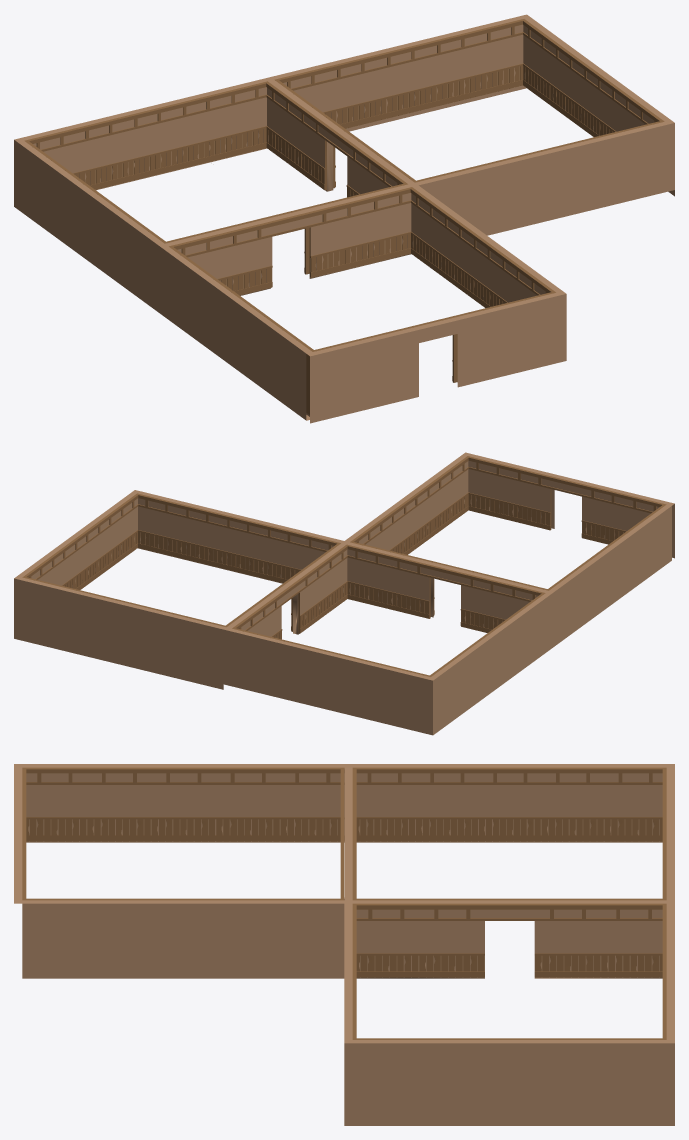
Rendered from wall.fbx.
3 views of the same model, one above another, from view 1: azimuth 30°, elevation 25°; view 2: azimuth 150°, elevation 25°; view 3: azimuth 270°, elevation 25° (orthographic). The views are drawn at different scales.
Parts seen in each view (by area): view 1: Cube.001; view 2: Cube.001; view 3: Cube.001.
Boxes of the visible parts, bbox=[...] form: Cube.001: bbox=[14, 14, 674, 423]; Cube.001: bbox=[14, 452, 674, 735]; Cube.001: bbox=[14, 764, 674, 1125].
Size of the model in its own units: 4000 by 550 by 4000.
